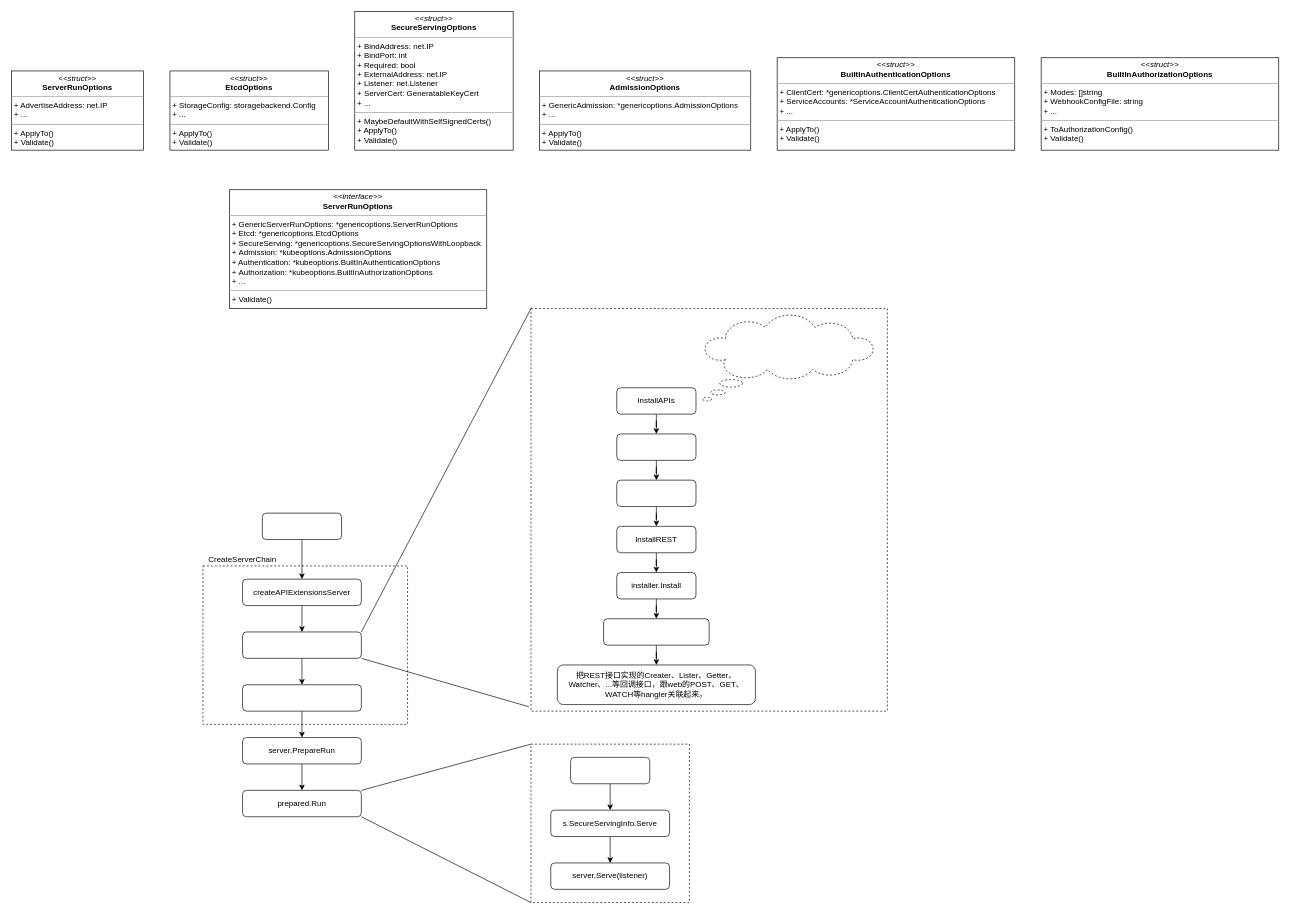
This 1290x915 diagram has some shape labels left out. Each missing label, with the centre of its shape:
"batchrest<jobs, cronjobs> appsrest<deployments, daemonsets> ..." goes at point 788,357.
"createAggregatorServer" goes at point 301,697.
"CreateKubeAPIServer" goes at point 301,644.
"InstallAPIGroups" goes at point 656,446.
"installAPIResources" goes at point 656,493.
"NonBlockingRun" goes at point 610,770.
"registerResourceHandlers" goes at point 656,631.
"Run" goes at point 302,526.
